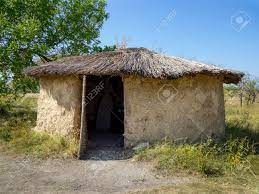Mud House: (17, 44, 251, 162)
